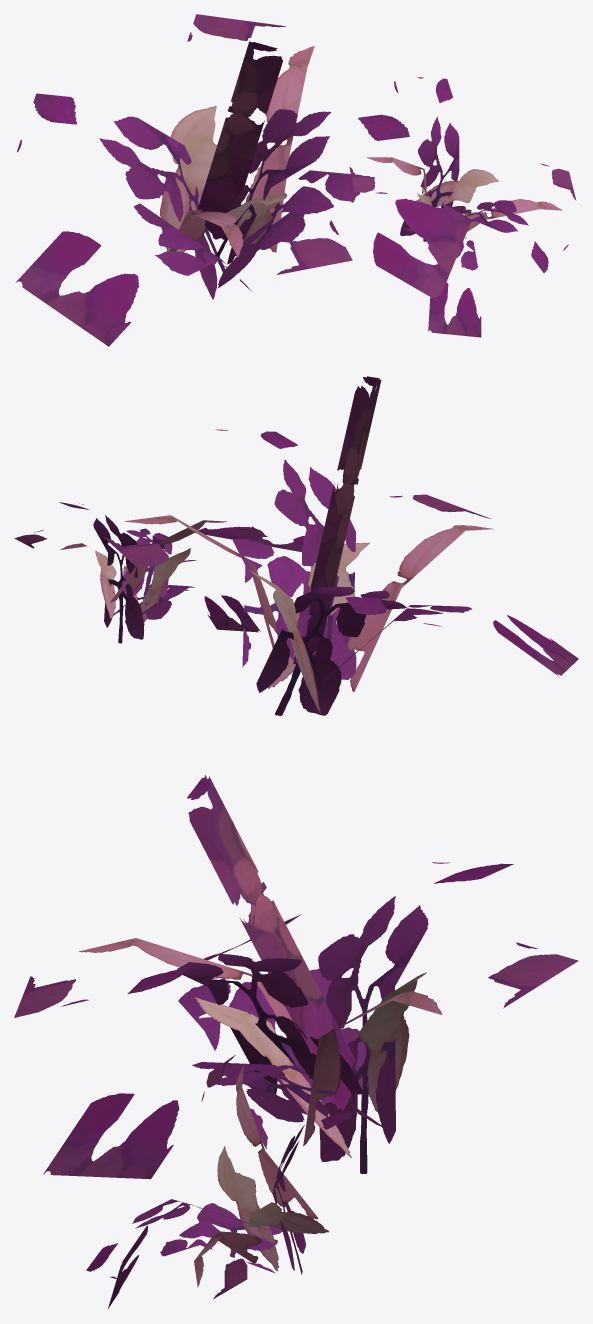
The model's file is cao_03.FBX.
3 views of the same model, one above another, from view 1: azimuth 30°, elevation 25°; view 2: azimuth 150°, elevation 25°; view 3: azimuth 270°, elevation 25° (orthographic). The views are drawn at different scales.
Parts seen in each view (by area): view 1: cao_03; view 2: cao_03; view 3: cao_03.
Part boxes in pixels (x1,y1,x2,y2): cao_03: [15, 14, 576, 346]; cao_03: [14, 376, 578, 715]; cao_03: [14, 774, 578, 1308].
Bounding box in the file's own units: 80.82 × 45.25 × 56.29.
